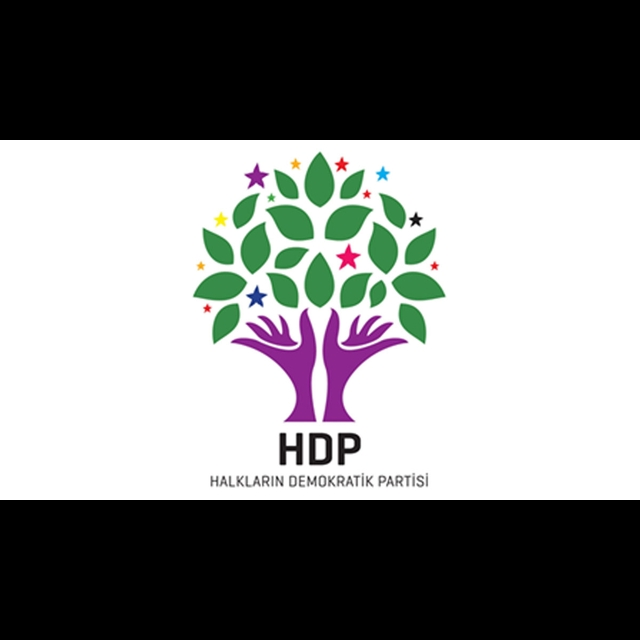HDP: (172, 148, 457, 425)
